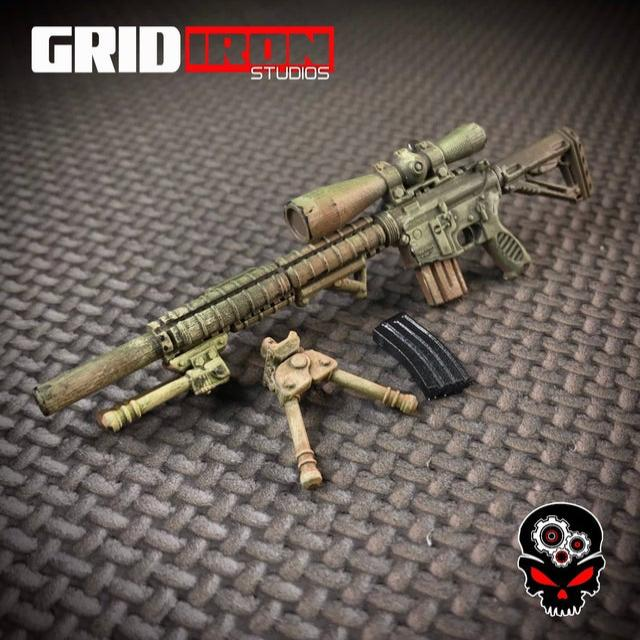Rifle: (33, 124, 592, 432)
